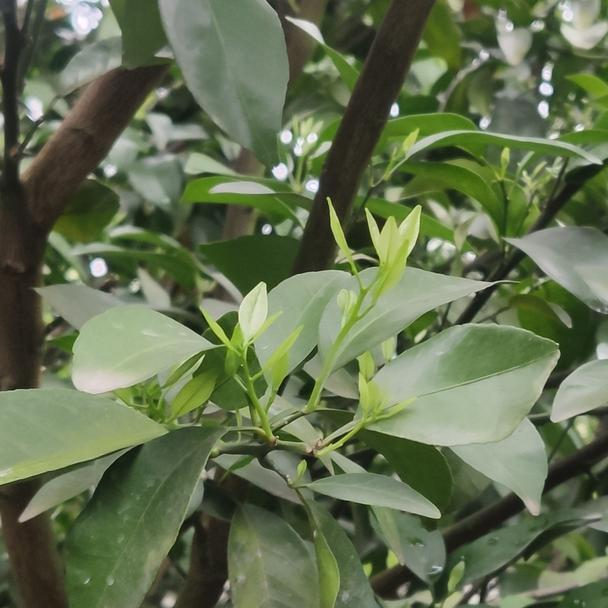shoot: (325, 199, 418, 380), (199, 300, 288, 428)
